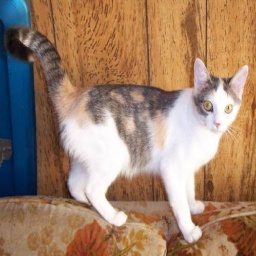cat: (18, 32, 242, 241)
